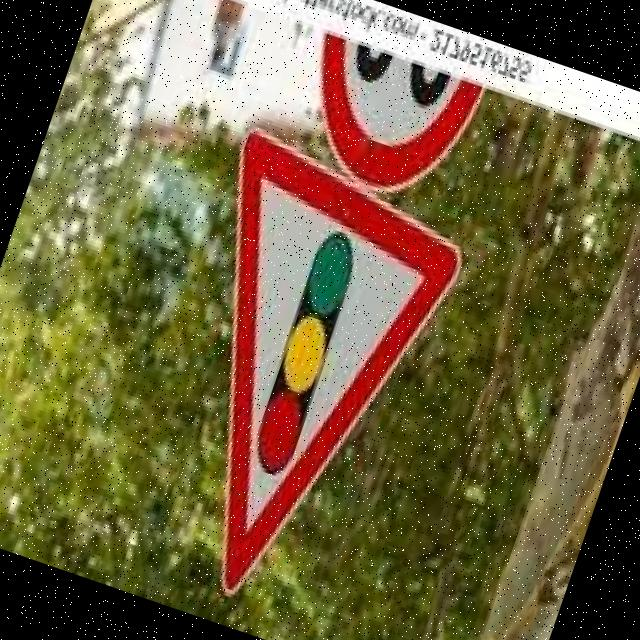light_traffic: (91, 121, 498, 640)
